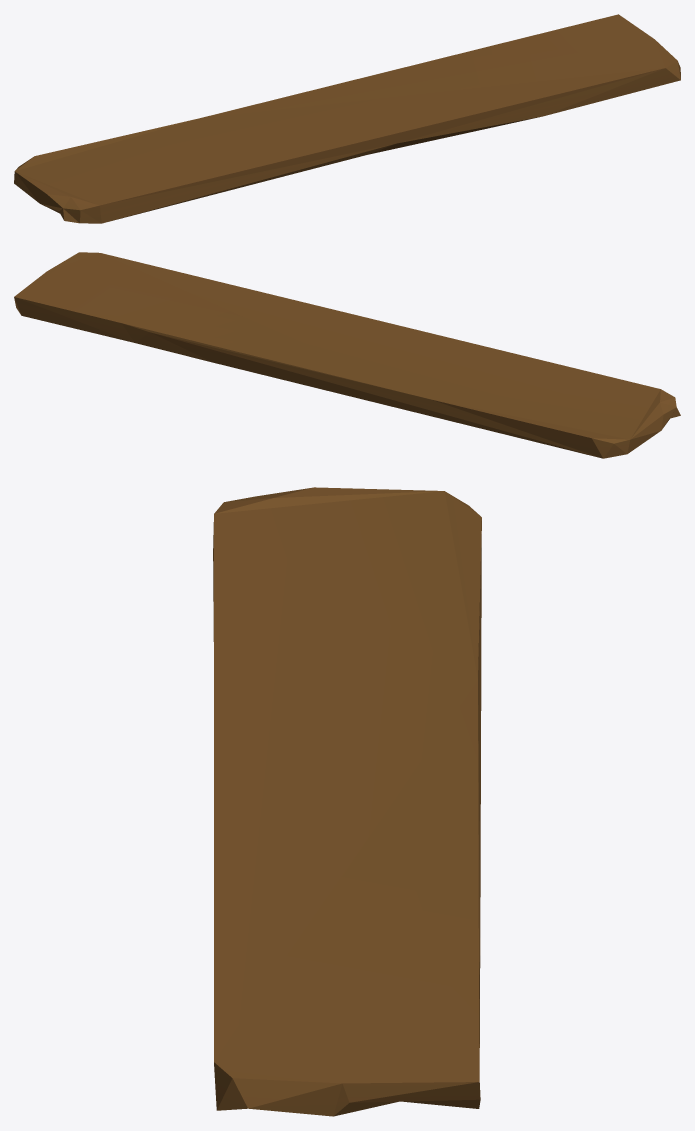
The model's file is Board_03.fbx.
3 renders of one model, top to bottom at view 1: azimuth 30°, elevation 25°; view 2: azimuth 150°, elevation 25°; view 3: azimuth 270°, elevation 25°, orthographic. The views are drawn at different scales.
Visible parts, largest first — view 1: Board_03; view 2: Board_03; view 3: Board_03.
Boxes of the visible parts, box(x1,y1,x2,y2) form: Board_03: box(14, 14, 680, 223); Board_03: box(14, 252, 680, 458); Board_03: box(213, 487, 481, 1116).
Bounding box in the file's own units: 169 × 5.72 × 32.07.
